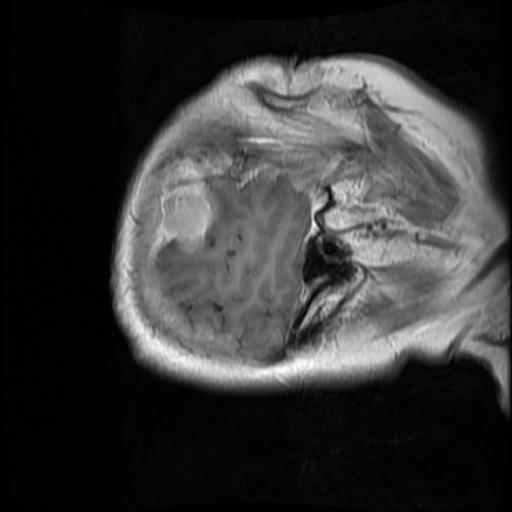meningioma: (161, 186, 212, 241)
